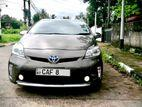car: (9, 18, 103, 92)
